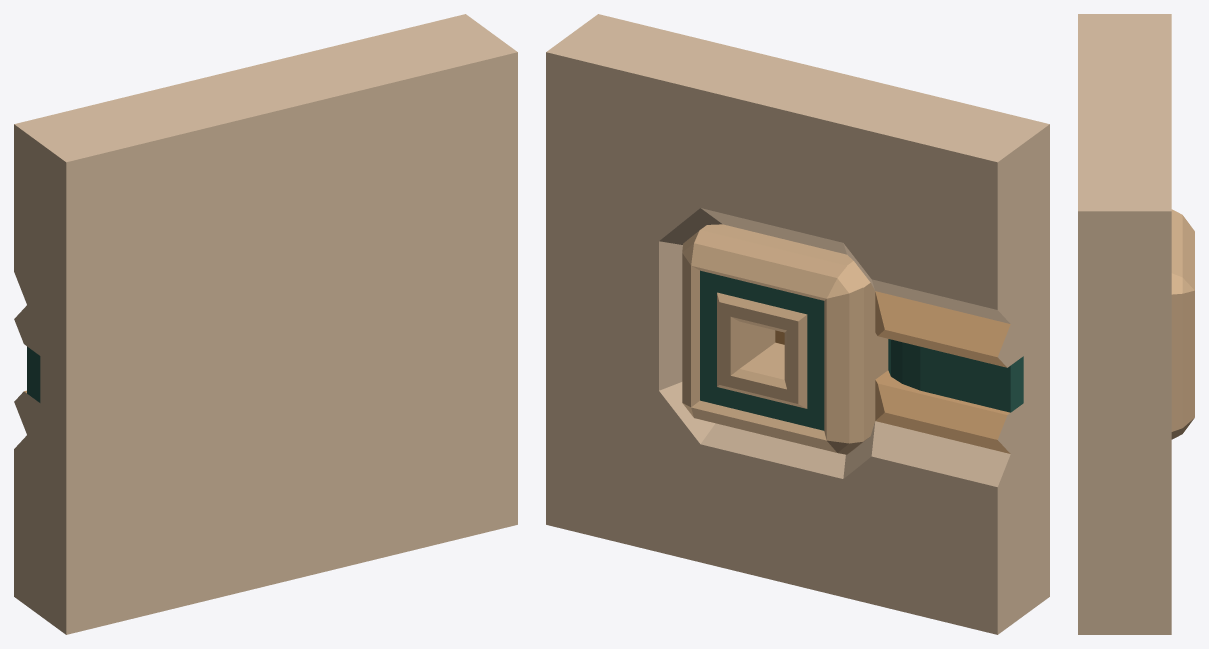
Rendered from Puzzle_Wall_Conduit_Keyhole_End.fbx.
3 views of the same model, side by side, from view 1: azimuth 30°, elevation 25°; view 2: azimuth 150°, elevation 25°; view 3: azimuth 270°, elevation 25° (orthographic). The views are drawn at different scales.
Parts seen in each view (by area): view 1: Sandstone_Trim.Sandstone_Trim.Sandstone_Trim.Sandstone_Trim.; view 2: Sandstone_Trim.Sandstone_Trim.Sandstone_Trim.Sandstone_Trim., object4, Sandstone_5.Sandstone_5.Sandstone_5.Sandstone_5.Sandstone_5., object2, object1; view 3: Sandstone_Trim.Sandstone_Trim.Sandstone_Trim.Sandstone_Trim., object4.
Part boxes in pixels (left/top/right/bottom): Sandstone_Trim.Sandstone_Trim.Sandstone_Trim.Sandstone_Trim.: left=14, top=14, right=517, bottom=634; Sandstone_Trim.Sandstone_Trim.Sandstone_Trim.Sandstone_Trim.: left=546, top=14, right=1049, bottom=634; object4: left=682, top=224, right=888, bottom=454; Sandstone_5.Sandstone_5.Sandstone_5.Sandstone_5.Sandstone_5.: left=875, top=291, right=1010, bottom=453; object2: left=700, top=270, right=824, bottom=430; object1: left=888, top=339, right=1023, bottom=412; Sandstone_Trim.Sandstone_Trim.Sandstone_Trim.Sandstone_Trim.: left=1078, top=14, right=1171, bottom=634; object4: left=1171, top=209, right=1194, bottom=439.
Size of the model in its own units: 1 by 1 by 0.25.
